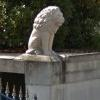Statue: (19, 3, 69, 65)
